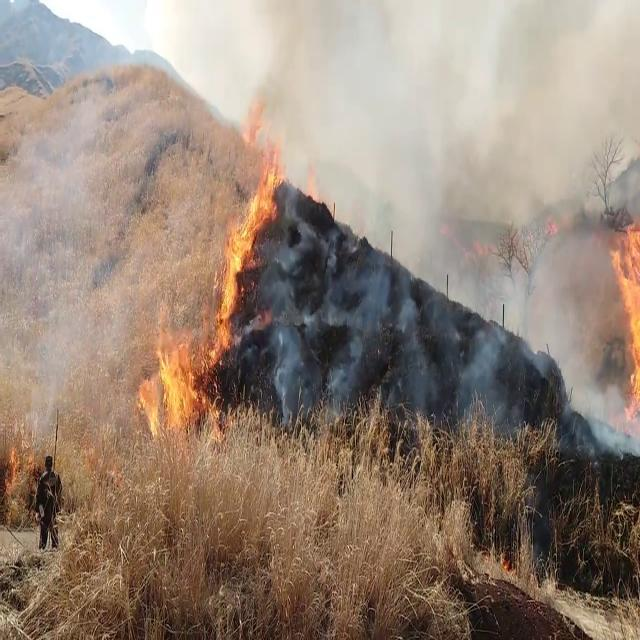Fire: (213, 130, 283, 358), (136, 322, 206, 435), (606, 189, 640, 421)
Smoke: (252, 1, 640, 436), (0, 63, 110, 441)
